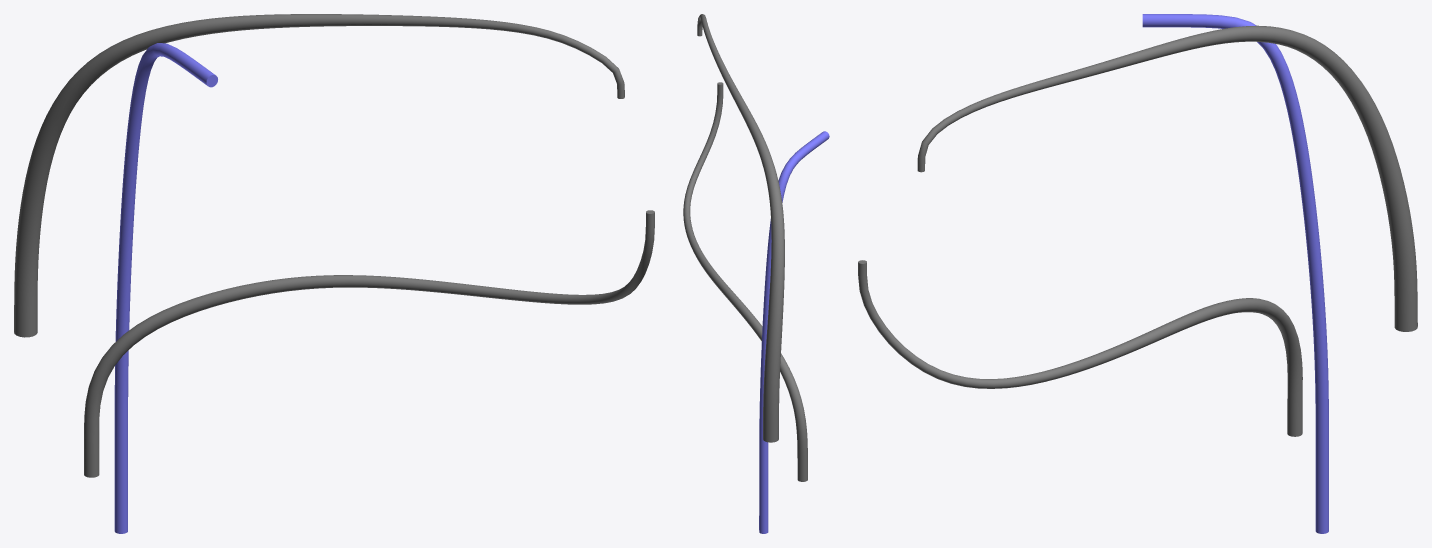
File: rasengan6.obj
3 renders of one model, left to right at view 1: azimuth 30°, elevation 25°; view 2: azimuth 150°, elevation 25°; view 3: azimuth 270°, elevation 25°, orthographic. The views are drawn at different scales.
Bounding box in the file's own units: 10.99 × 16.14 × 14.7.
